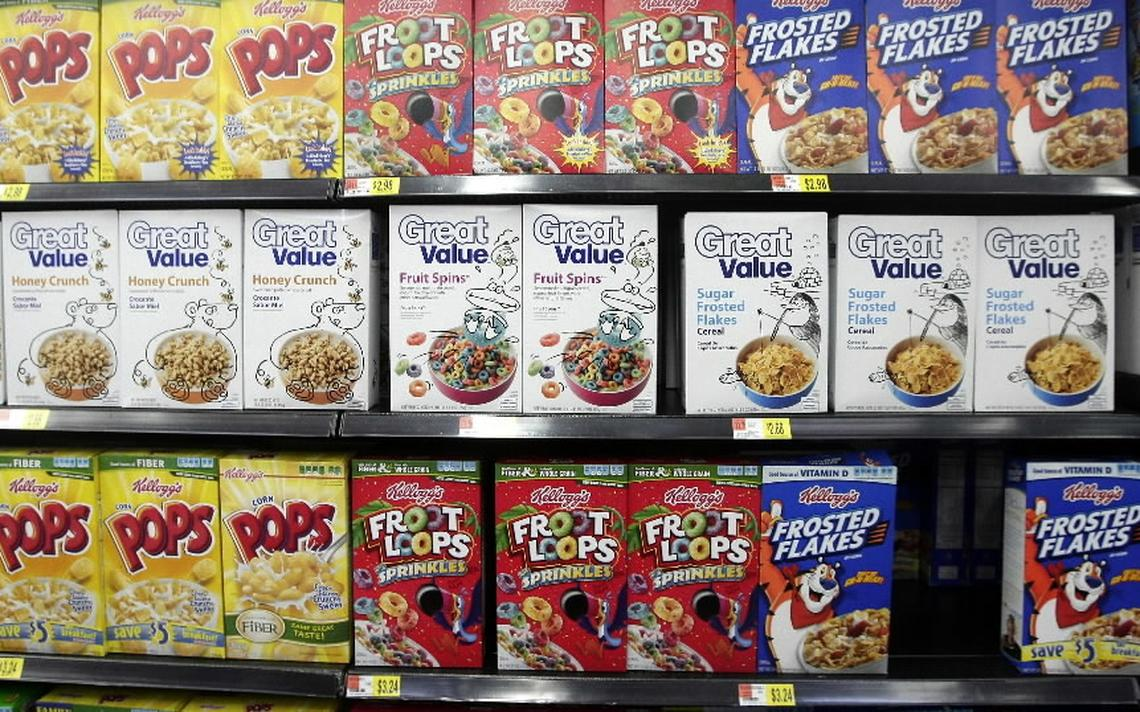cereal: (522, 205, 656, 413), (762, 474, 896, 679), (979, 215, 1116, 409), (687, 216, 825, 408), (394, 206, 522, 408), (629, 479, 762, 672), (840, 220, 973, 410), (502, 480, 627, 675), (355, 484, 481, 670), (998, 1, 1132, 174), (228, 464, 345, 662), (869, 1, 1000, 175), (606, 1, 739, 172), (476, 1, 606, 172), (741, 1, 869, 174), (344, 2, 469, 172), (106, 461, 213, 658), (222, 7, 345, 174), (105, 6, 223, 176), (1, 2, 100, 180), (1, 464, 90, 650)
